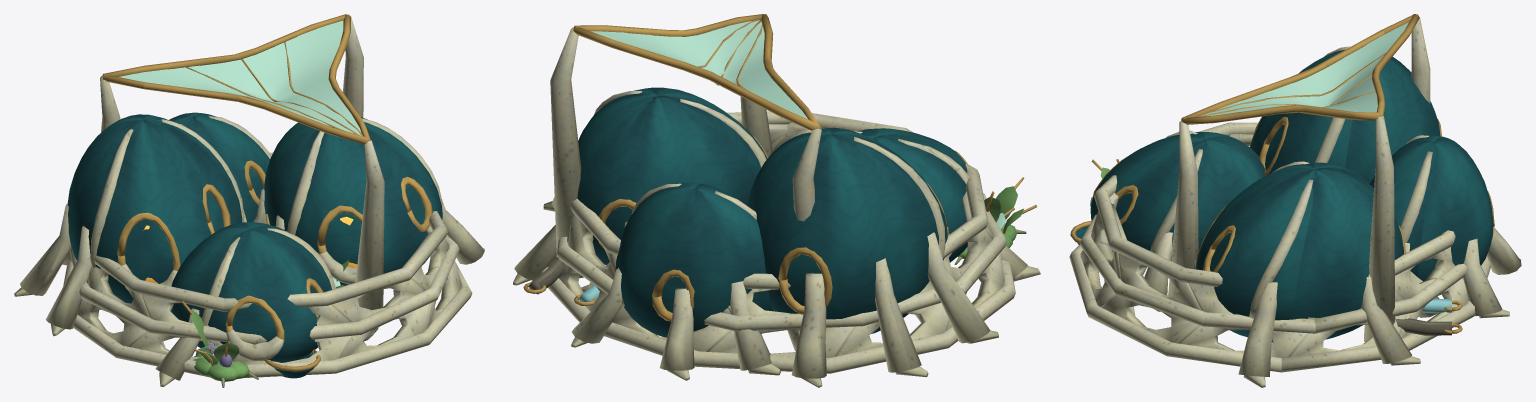
File: 04_symbiotic_court_lod.glb
3 views of the same model, side by side, from view 1: azimuth 30°, elevation 25°; view 2: azimuth 150°, elevation 25°; view 3: azimuth 270°, elevation 25° (orthographic). The views are drawn at different scales.
Visible parts, largest first — view 1: GrowthFrameMesh.003, GrowthShellMesh.003, GrowthSoftMesh.003, DormancyMesh.003; view 2: GrowthFrameMesh.003, GrowthShellMesh.003, GrowthSoftMesh.003, DormancyMesh.003; view 3: GrowthFrameMesh.003, GrowthShellMesh.003, GrowthSoftMesh.003, DormancyMesh.003.
Part boxes in pixels (x1=…): GrowthFrameMesh.003: x1=14, y1=14, x2=484, y2=386; GrowthShellMesh.003: x1=67, y1=112, x2=442, y2=378; GrowthSoftMesh.003: x1=119, y1=20, x2=361, y2=387; DormancyMesh.003: x1=125, y1=168, x2=424, y2=341; GrowthFrameMesh.003: x1=513, y1=14, x2=1040, y2=387; GrowthShellMesh.003: x1=577, y1=87, x2=967, y2=337; GrowthSoftMesh.003: x1=591, y1=20, x2=1026, y2=264; DormancyMesh.003: x1=605, y1=206, x2=821, y2=312; GrowthFrameMesh.003: x1=1069, y1=14, x2=1521, y2=387; GrowthShellMesh.003: x1=1075, y1=49, x2=1492, y2=342; GrowthSoftMesh.003: x1=1100, y1=22, x2=1408, y2=178; DormancyMesh.003: x1=1116, y1=124, x2=1284, y2=271.
Size of the model in its own units: 4.92 by 2.58 by 4.38.
12 materials, 12 textured.
